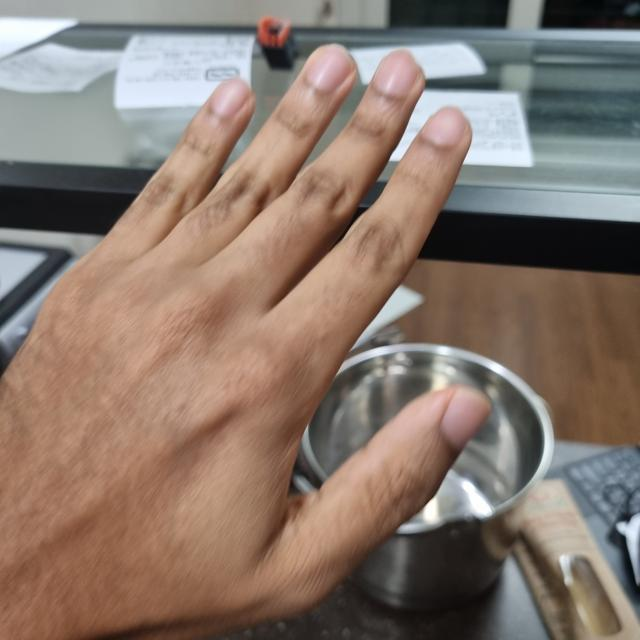Paper: (0, 45, 475, 639)
